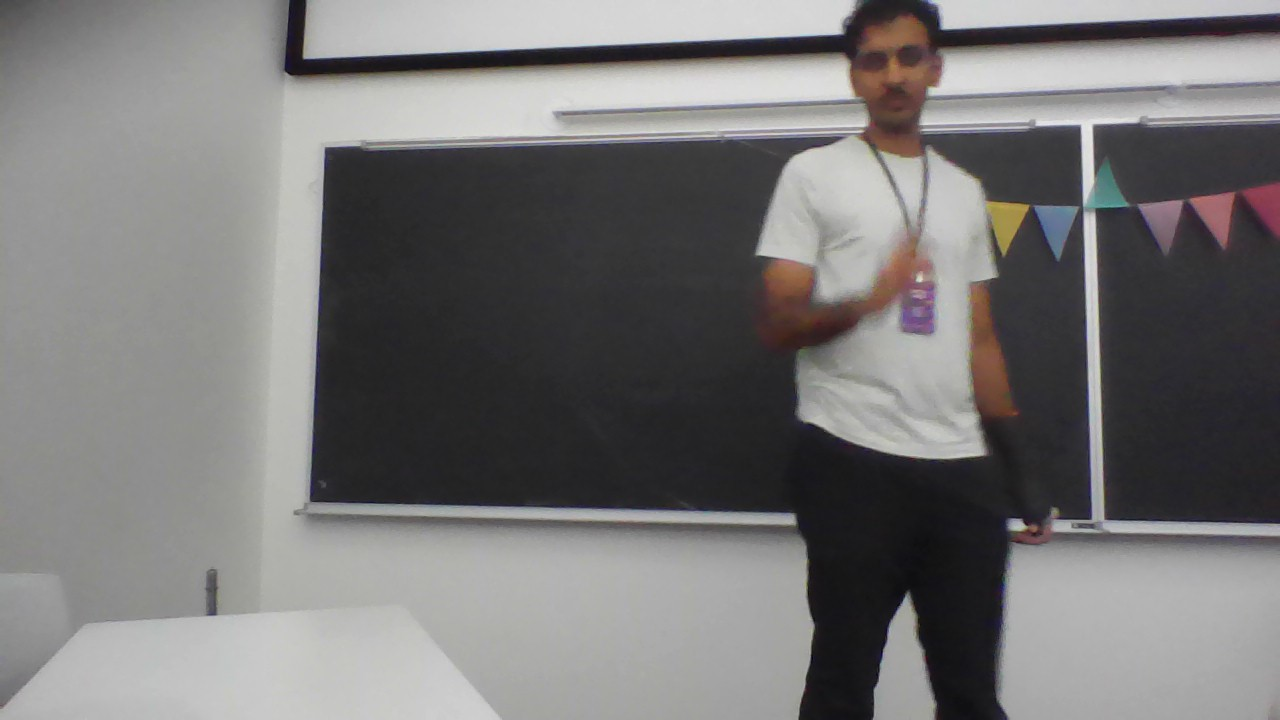height_frame: (719, 4, 1073, 720)
hip_frame: (792, 426, 996, 471)
shoulder_frame: (787, 161, 984, 194)
waist_frame: (809, 326, 969, 359)
